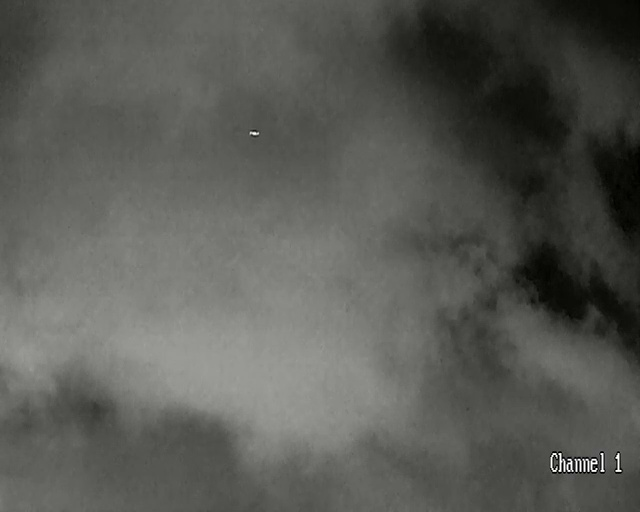uav: (250, 131, 259, 135)
